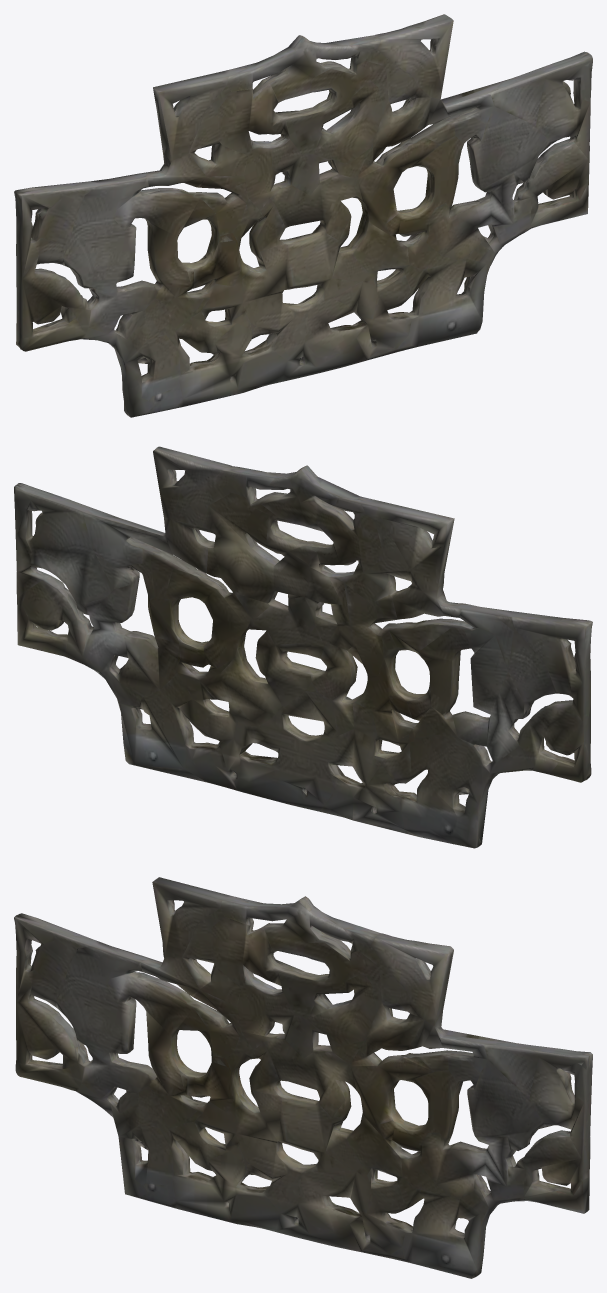
File: jade-comb-overview.glb
3 renders of one model, top to bottom at view 1: azimuth 30°, elevation 25°; view 2: azimuth 150°, elevation 25°; view 3: azimuth 330°, elevation 25°, orthographic.
Parts seen in each view (by area): view 1: node_0; view 2: node_0; view 3: node_0.
Part boxes in pixels (left/top/right/bottom): node_0: left=14, top=14, right=592, bottom=417; node_0: left=14, top=446, right=592, bottom=848; node_0: left=14, top=877, right=592, bottom=1278.
Size of the model in its own units: 1.16 by 0.653 by 0.0244.
Materials: 1 (1 with a texture image).
